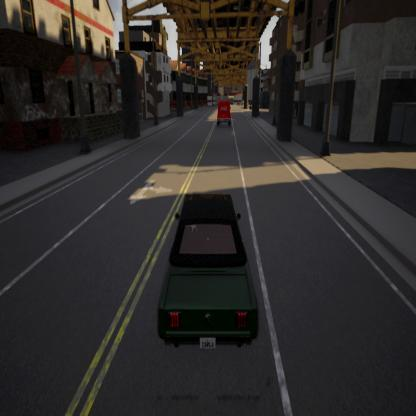Cars: (159, 191, 258, 351), (215, 98, 232, 129)
